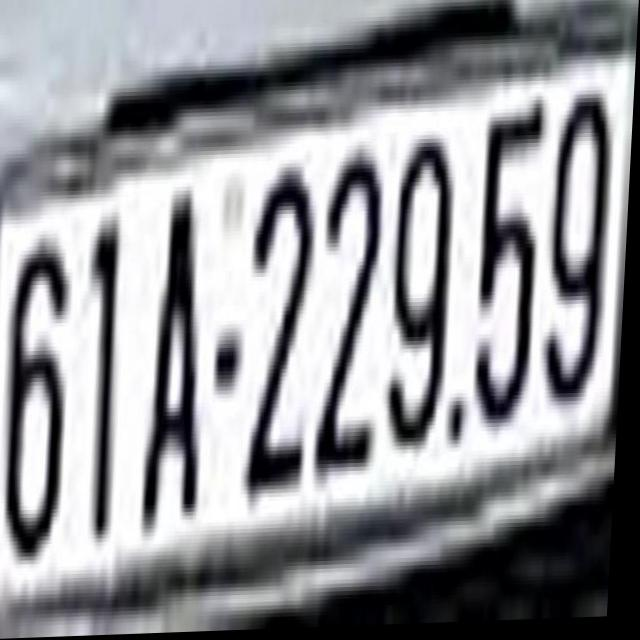1: (82, 224, 133, 559)
2: (317, 143, 391, 483), (247, 165, 323, 493)
5: (474, 100, 548, 444)
6: (9, 215, 76, 558)
9: (543, 78, 616, 422), (387, 133, 461, 465)
A: (145, 179, 216, 534)
